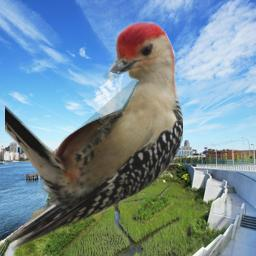Woodpecker: (5, 21, 183, 256)
